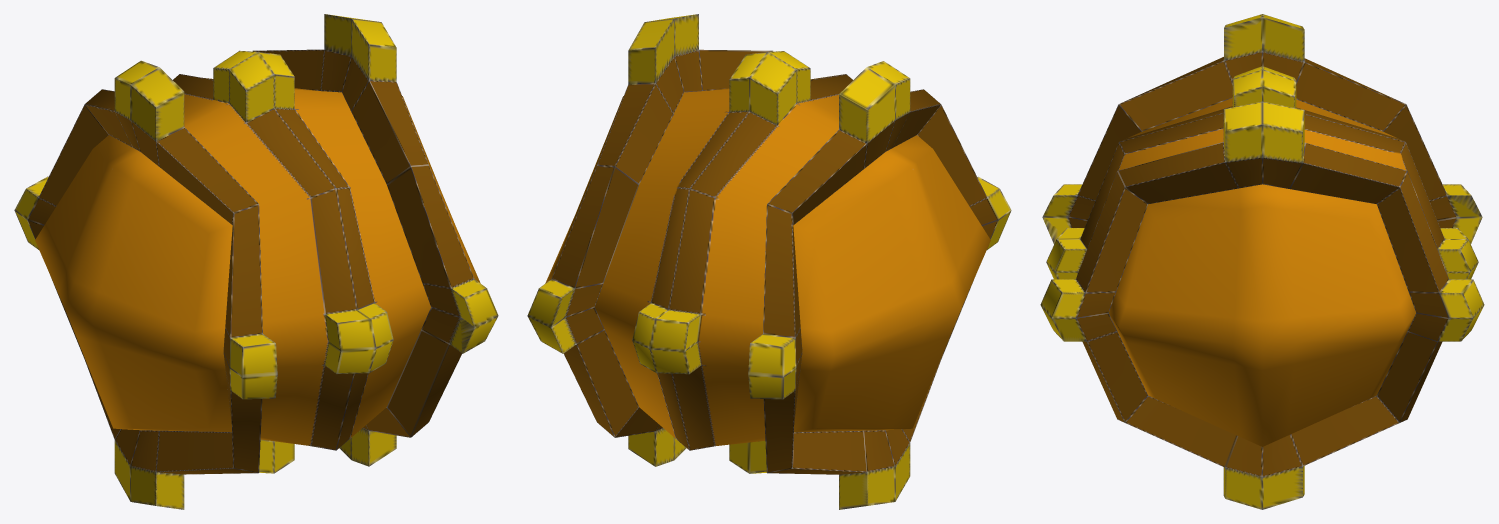
Rendered from Dragon Body Section.fbx.
The picture shows the model from 3 angles, left to right: view 1: azimuth 30°, elevation 25°; view 2: azimuth 150°, elevation 25°; view 3: azimuth 270°, elevation 25°; orthographic projection. The views are drawn at different scales.
Visible parts, largest first — view 1: pCube6; view 2: pCube6; view 3: pCube6.
Part boxes in pixels (<box>): pCube6: <box>14,14,498,509</box>; pCube6: <box>527,14,1011,509</box>; pCube6: <box>1040,14,1484,509</box>.
Bounding box in the file's own units: 9.92 × 10.86 × 10.79.
1 material, 1 textured.
